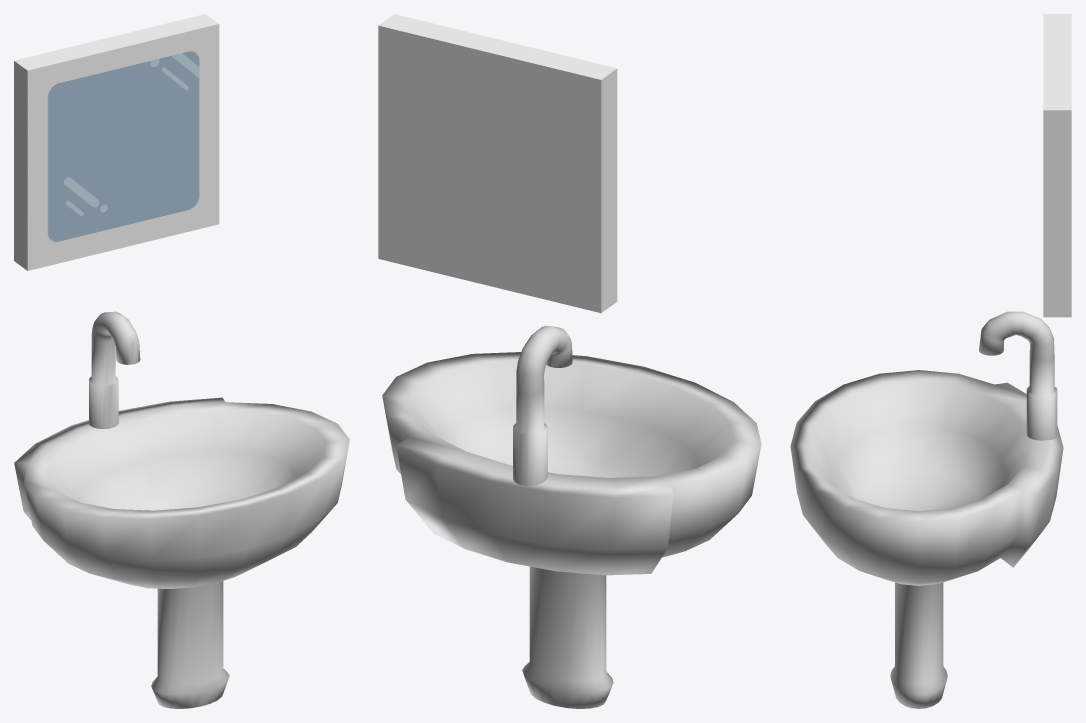
Rendered from scene1_sink.glb.
3 renders of one model, left to right at view 1: azimuth 30°, elevation 25°; view 2: azimuth 150°, elevation 25°; view 3: azimuth 270°, elevation 25°, orthographic. The views are drawn at different scales.
Visible parts, largest first — view 1: MIRROR; view 2: MIRROR; view 3: MIRROR.
Boxes of the visible parts, x1,y1,x2,y2 form: MIRROR: (14,14,349,708); MIRROR: (378,14,761,708); MIRROR: (790,14,1071,708).
Bounding box in the file's own units: 1.12 × 2.15 × 0.8744.
Materials: 2 (2 with a texture image).
